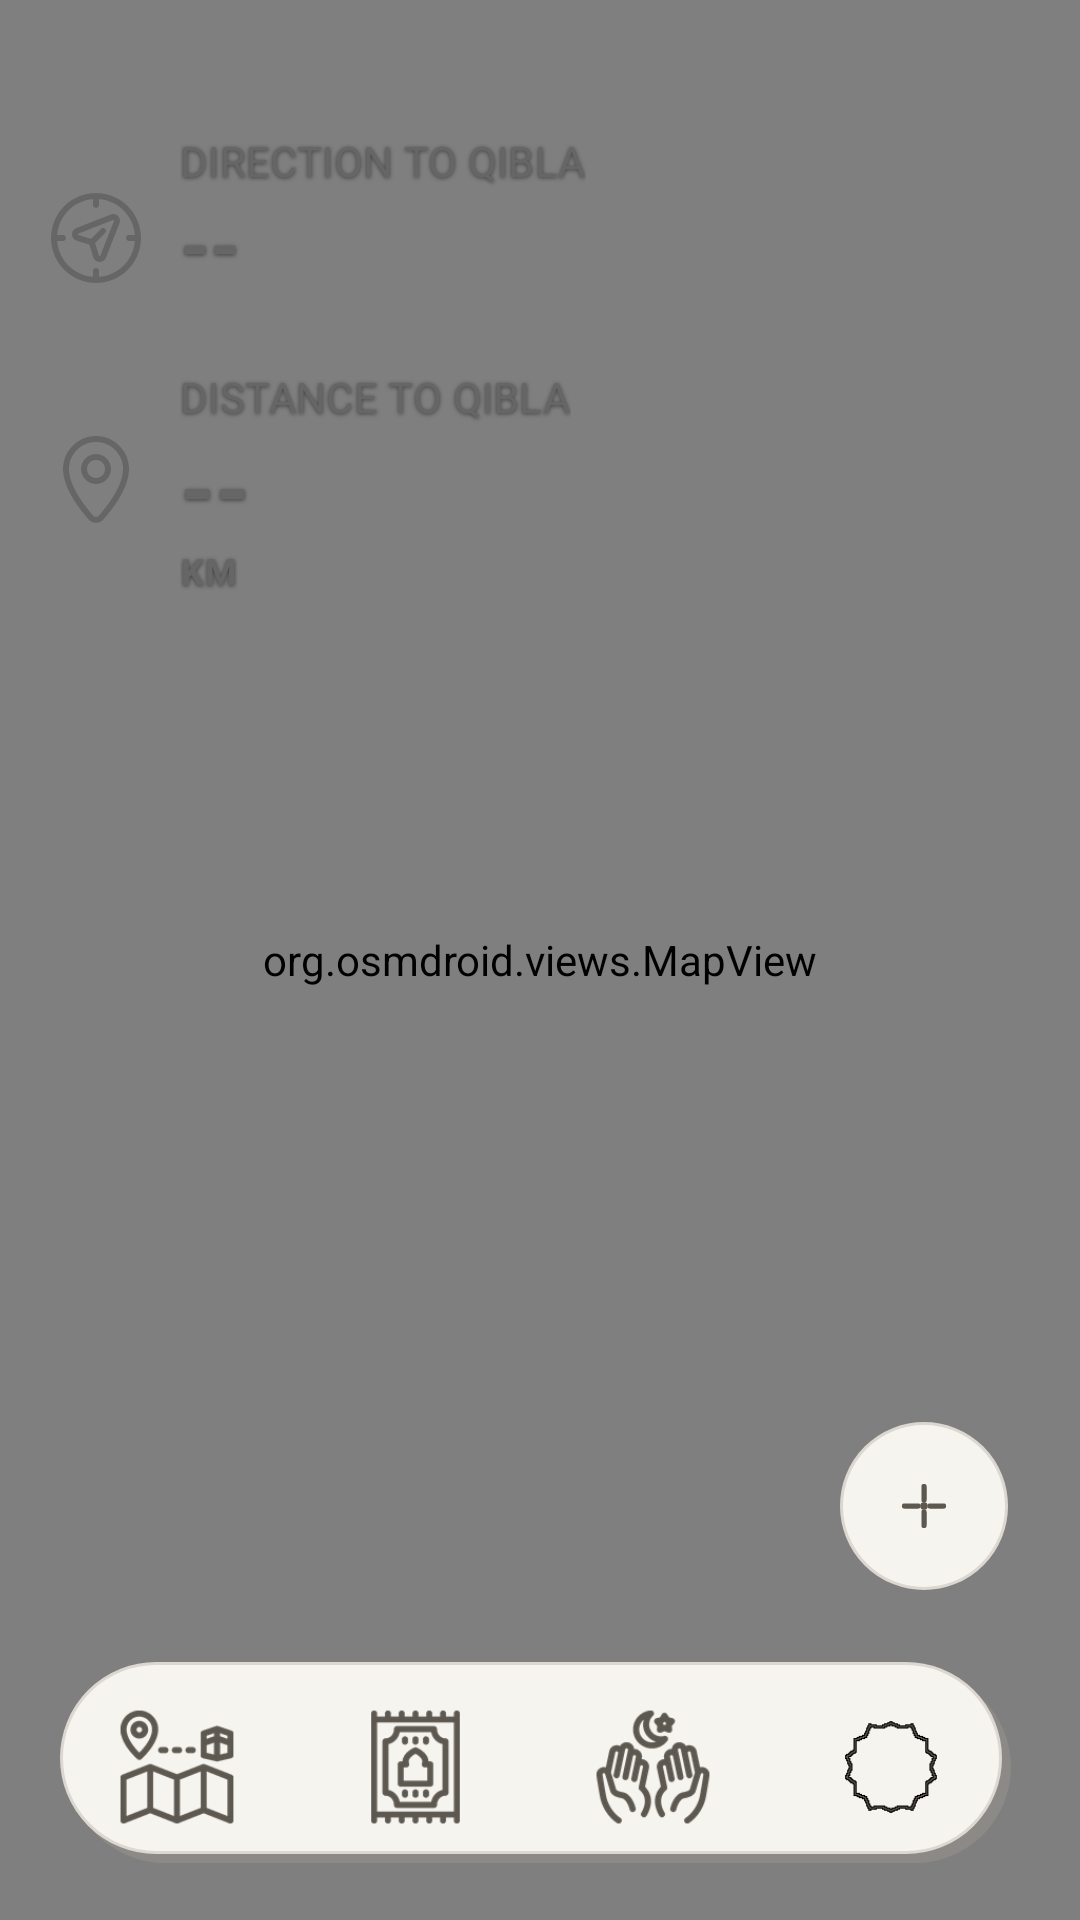

Where icons sit on this 1080×1920 app screen, as BBox(x1, y1, x2, y2):
Dua: BBox(596, 1710, 710, 1824)
Prayer times: BBox(371, 1710, 460, 1824)
